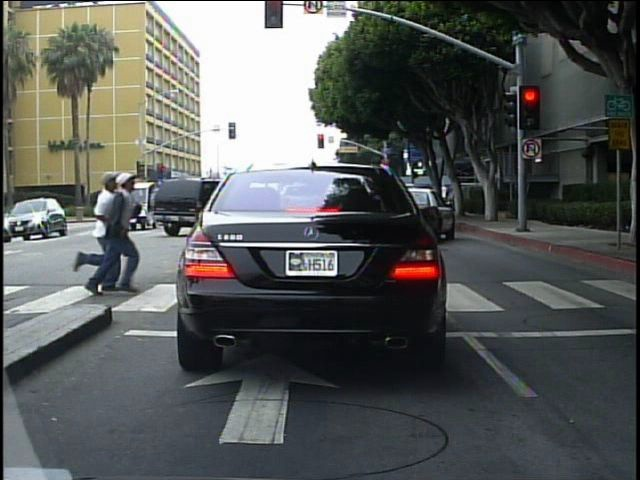person: (74, 170, 146, 296), (57, 164, 111, 297), (438, 179, 453, 214)
